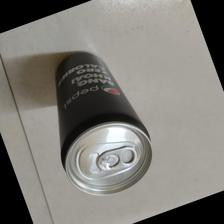Pepsi: (52, 52, 153, 196)
